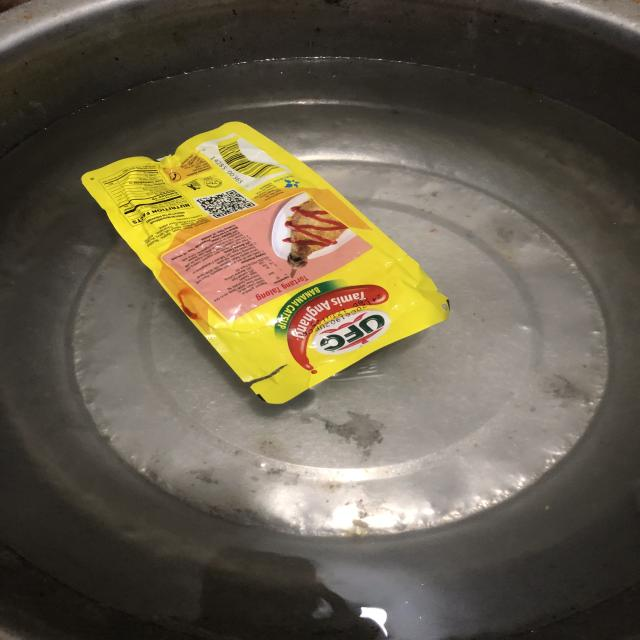Plastic Pouch: (55, 98, 483, 419)
